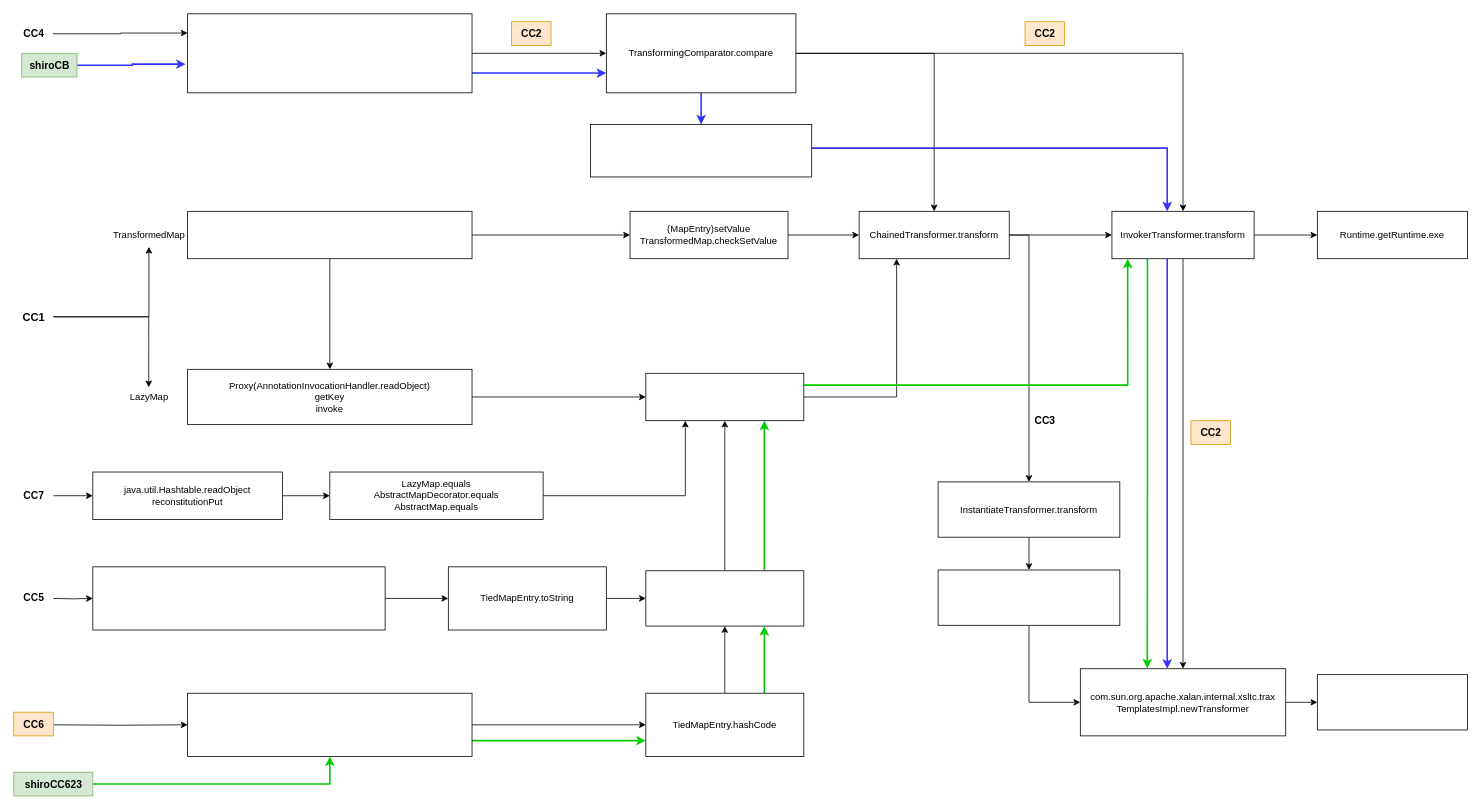
Image size: 1481x810. Some labels were removed from this diagram. Here are the shapes that lost their labels. From the top down, the centre of each, then its label:
At [329,53]: "java.util.PriorityQueue.readObject heapify siftDown siftDownUsingComparator".
At [701,150]: "org.apache.commons.beanutils.BeanComparator".
At [329,235]: "sun.reflect.annotation. AnnotationInvocationHandler.readObject".
At [724,396]: "LazyMap.get".
At [238,598]: "javax.management.BadAttributeValueExpException.readObject".
At [724,598]: "TiedMapEntry.getValue".
At [1028,597]: "TrAXFilter.TrAXFilter".
At [1392,702]: "defineClass getTransletInstance newInstance".
At [329,724]: "java.util.HashMap.readObject hash".
